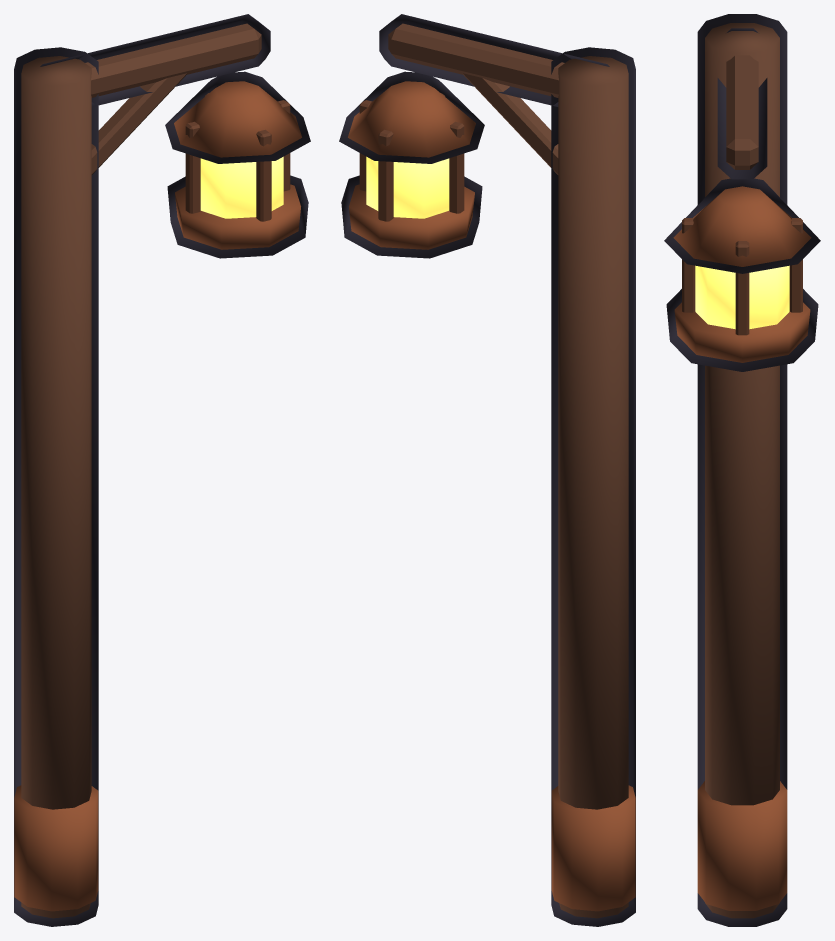
Rendered from lantern_post.glb.
3 renders of one model, left to right at view 1: azimuth 30°, elevation 25°; view 2: azimuth 150°, elevation 25°; view 3: azimuth 270°, elevation 25°, orthographic. The views are drawn at different scales.
Visible parts, largest first — view 1: lantern_post; view 2: lantern_post; view 3: lantern_post.
Part boxes in pixels (x1,y1,x2,y2): lantern_post: [14, 14, 310, 926]; lantern_post: [339, 14, 635, 926]; lantern_post: [664, 14, 820, 926].
Bounding box in the file's own units: 1.2 × 3.42 × 0.554.
